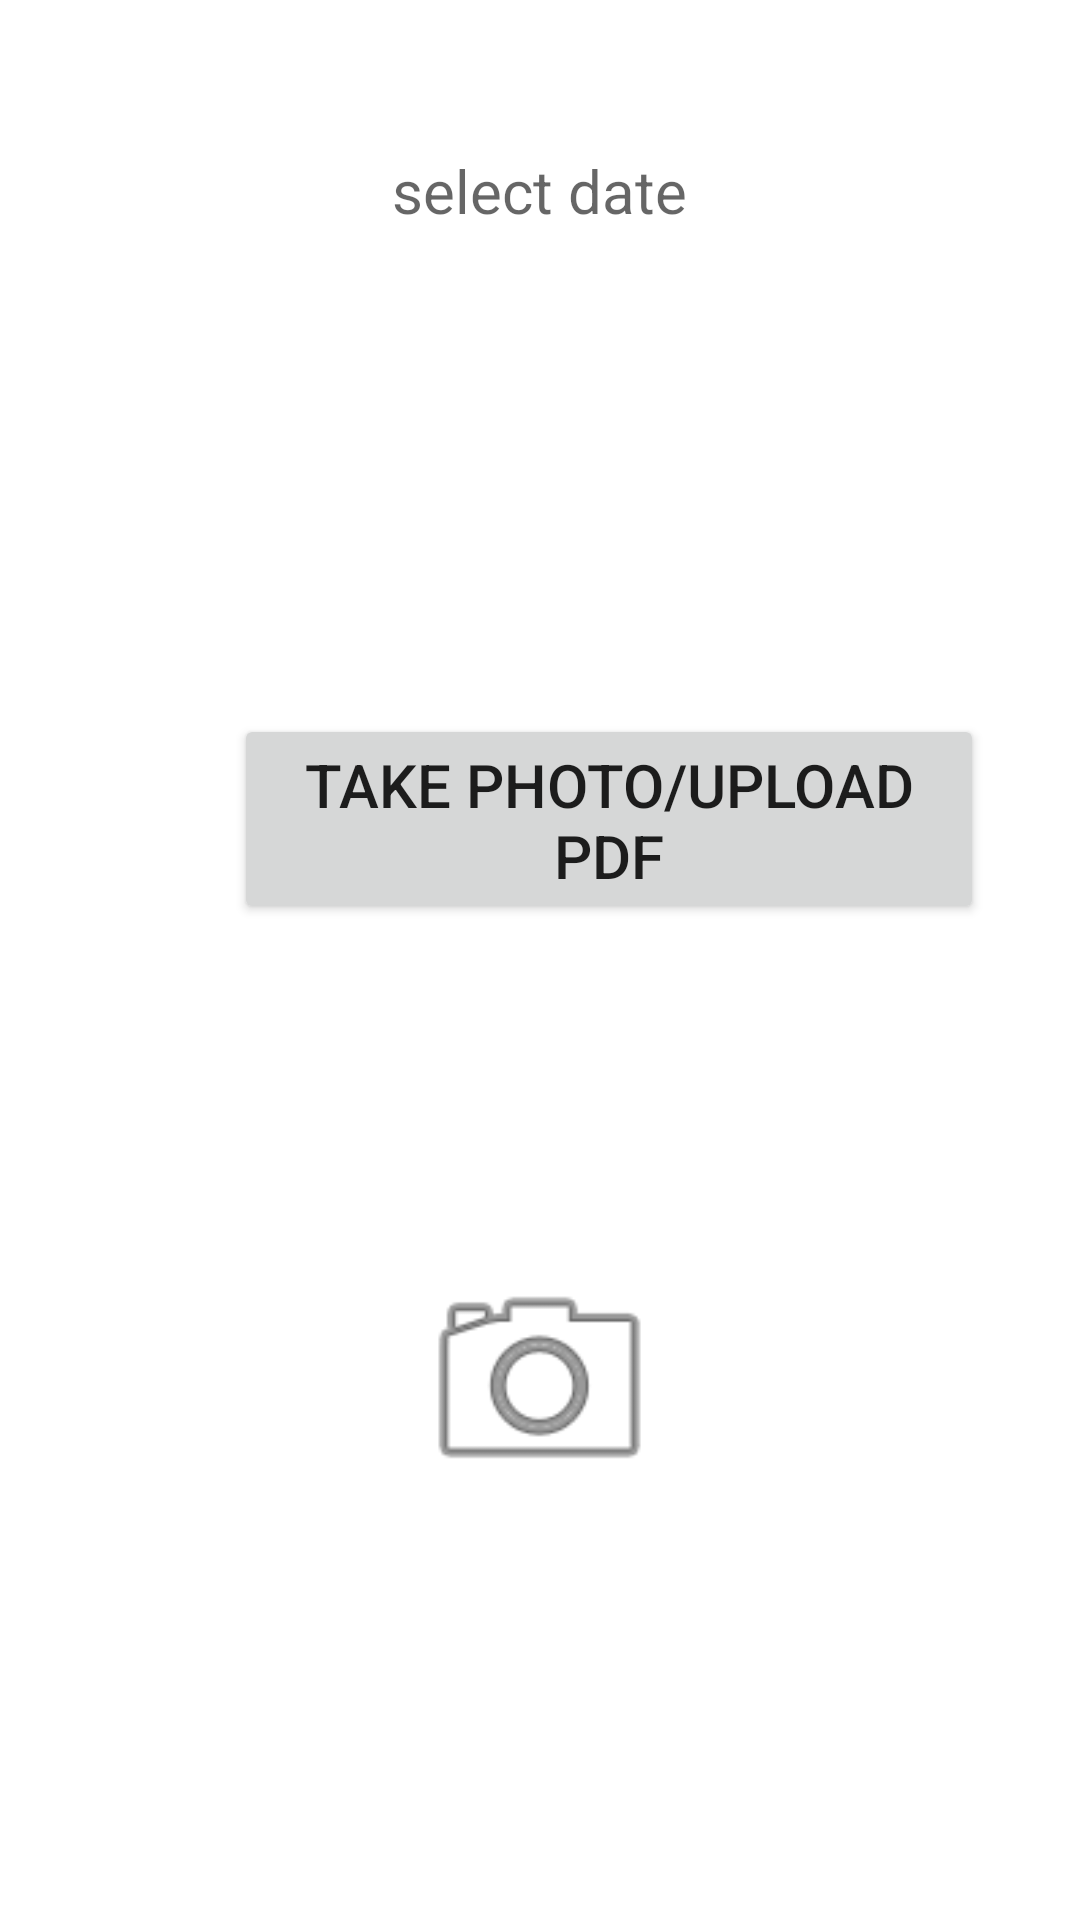

Named icons in this screenshot (1080w x 1920h) and their bounding boxes, (x1, y1, x2, y2):
camera: (438, 1297, 641, 1458)
